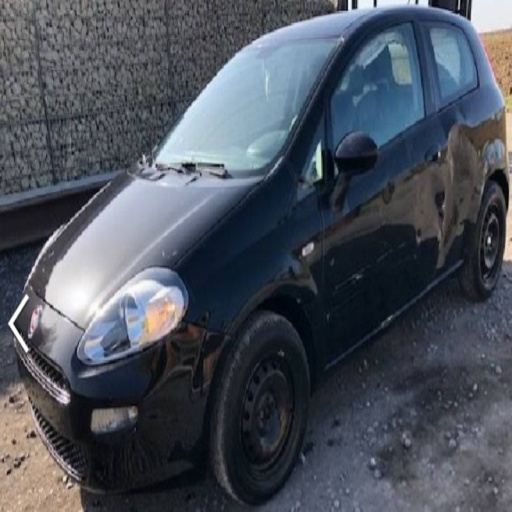dent: (430, 120, 490, 270), (143, 317, 234, 399), (380, 175, 396, 207), (381, 312, 398, 329), (414, 224, 424, 249)
rust: (230, 280, 288, 335), (263, 398, 290, 453)
scratch: (336, 231, 413, 290), (347, 267, 378, 284)
